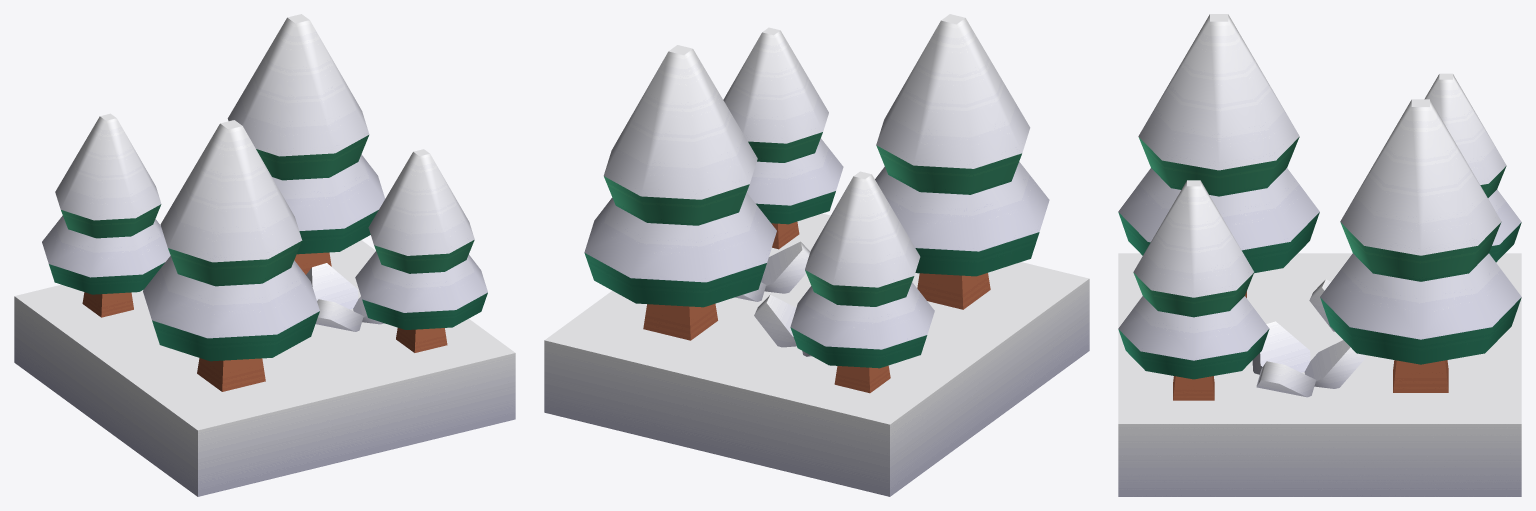
File: tower-defense-kit--snow-tile-tree-quad.glb
3 views of the same model, side by side, from view 1: azimuth 30°, elevation 25°; view 2: azimuth 150°, elevation 25°; view 3: azimuth 270°, elevation 25° (orthographic). The views are drawn at different scales.
Parts seen in each view (by area): view 1: snow-tile-tree-quad; view 2: snow-tile-tree-quad; view 3: snow-tile-tree-quad.
Part boxes in pixels (left/top/right/bottom): snow-tile-tree-quad: left=14, top=14, right=515, bottom=496; snow-tile-tree-quad: left=544, top=14, right=1089, bottom=496; snow-tile-tree-quad: left=1118, top=14, right=1521, bottom=496.
Size of the model in its own units: 1 by 0.96 by 1.
1 material, 1 textured.
